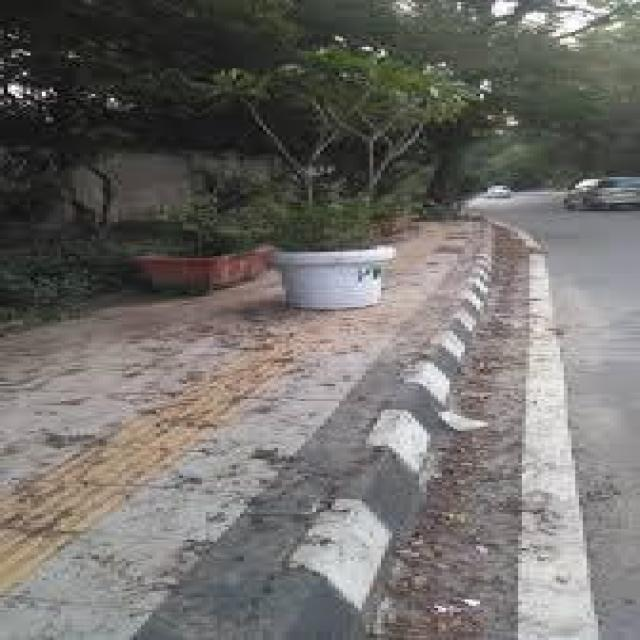curb: (254, 468, 420, 636), (366, 307, 486, 462), (466, 224, 521, 329)
